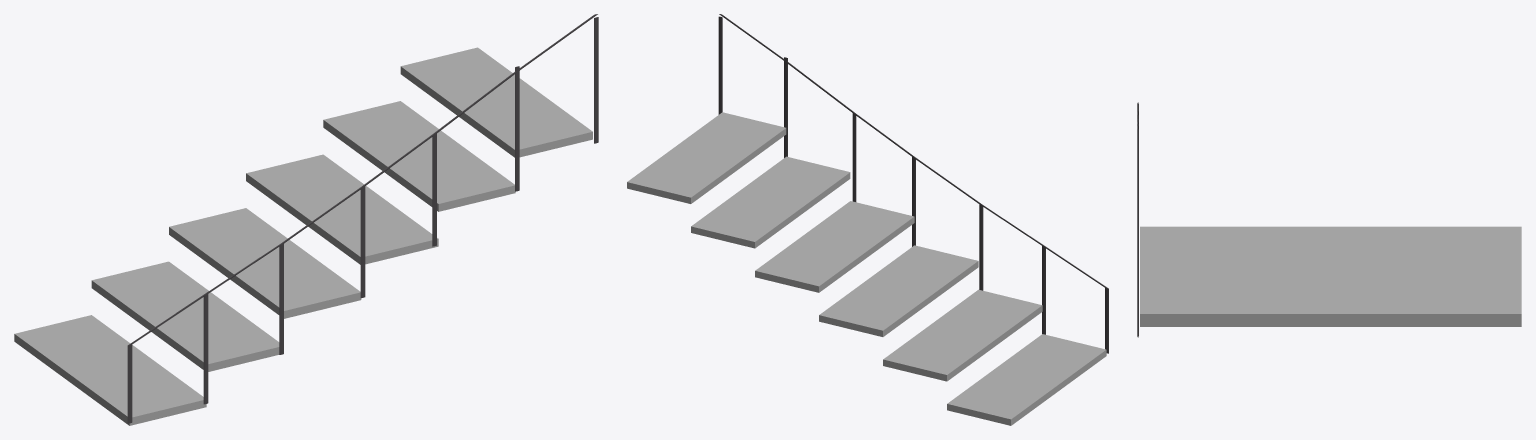
The model's file is stairs.fbx.
3 views of the same model, side by side, from view 1: azimuth 30°, elevation 25°; view 2: azimuth 150°, elevation 25°; view 3: azimuth 270°, elevation 25° (orthographic). The views are drawn at different scales.
Parts seen in each view (by area): view 1: Plane, Plane.003; view 2: Plane, Plane.003; view 3: Plane, Plane.003.
Part boxes in pixels (bbox=[...]): Plane: bbox=[14, 47, 592, 425]; Plane.003: bbox=[127, 14, 598, 423]; Plane: bbox=[627, 112, 1106, 425]; Plane.003: bbox=[718, 14, 1108, 353]; Plane: bbox=[1140, 226, 1521, 326]; Plane.003: bbox=[1137, 102, 1138, 337].
Size of the model in its own units: 1219 by 738 by 520.
